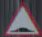Speed Breaker ahead: (4, 0, 41, 35)
